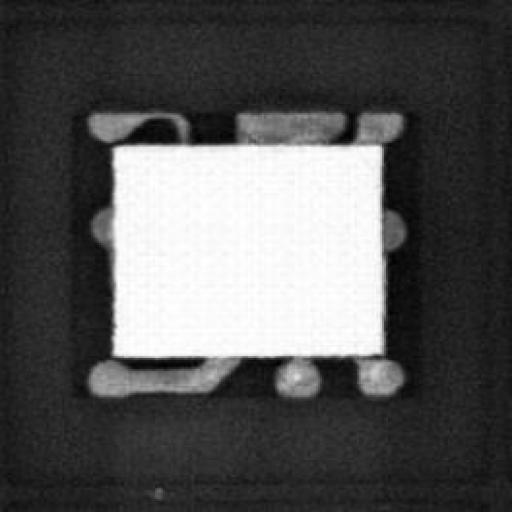DIE_INK: (147, 480, 163, 499)
